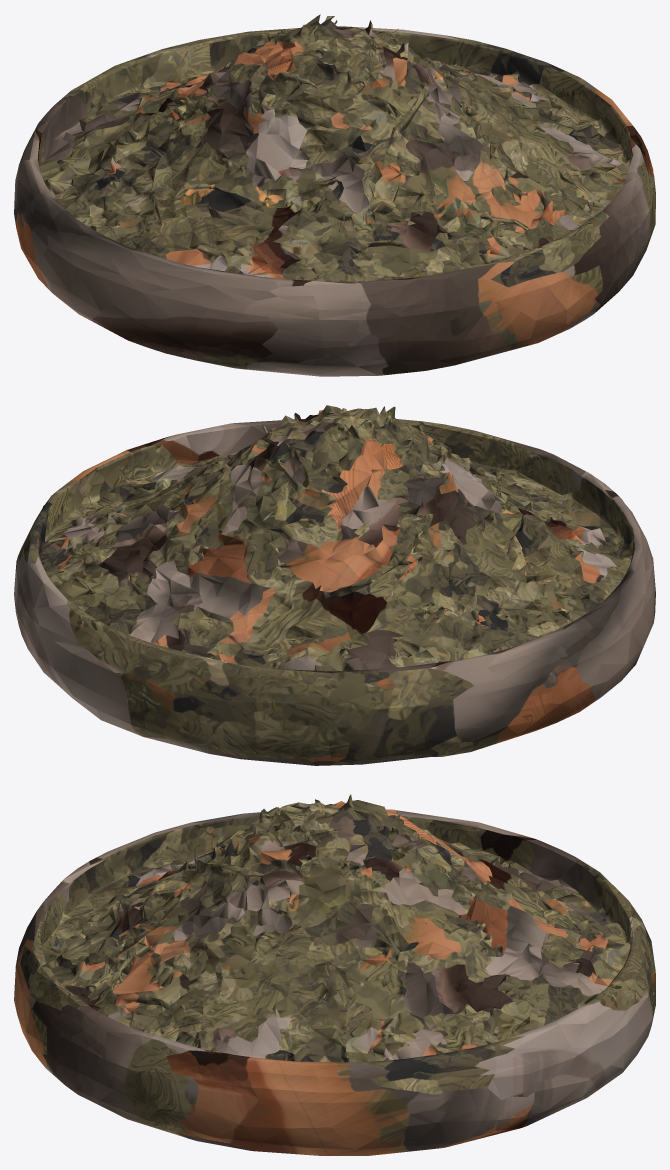
3 views of the same model, one above another, from view 1: azimuth 30°, elevation 25°; view 2: azimuth 150°, elevation 25°; view 3: azimuth 270°, elevation 25° (orthographic).
Visible parts, largest first — view 1: texture_pbr_v128.001; view 2: texture_pbr_v128.001; view 3: texture_pbr_v128.001.
Part boxes in pixels (left/top/right/bottom): texture_pbr_v128.001: left=14, top=14, right=655, bottom=376; texture_pbr_v128.001: left=14, top=405, right=655, bottom=765; texture_pbr_v128.001: left=14, top=794, right=655, bottom=1155.
Bounding box in the file's own units: 116 × 48.44 × 116.
